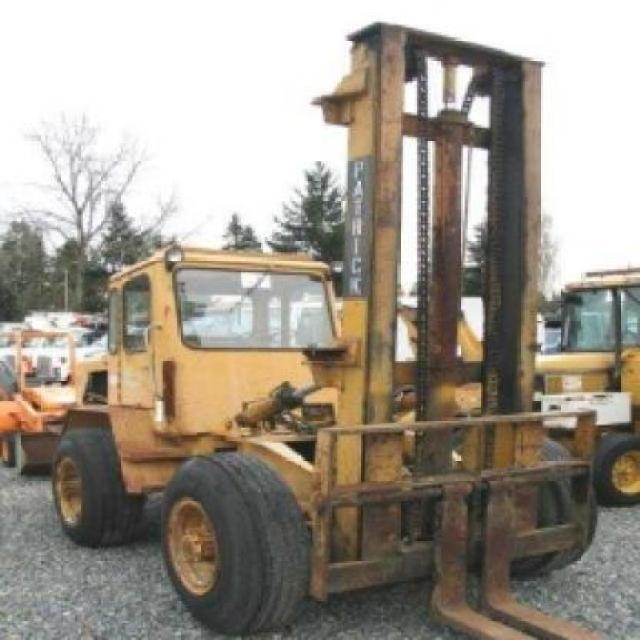forklift: (48, 22, 601, 630)
